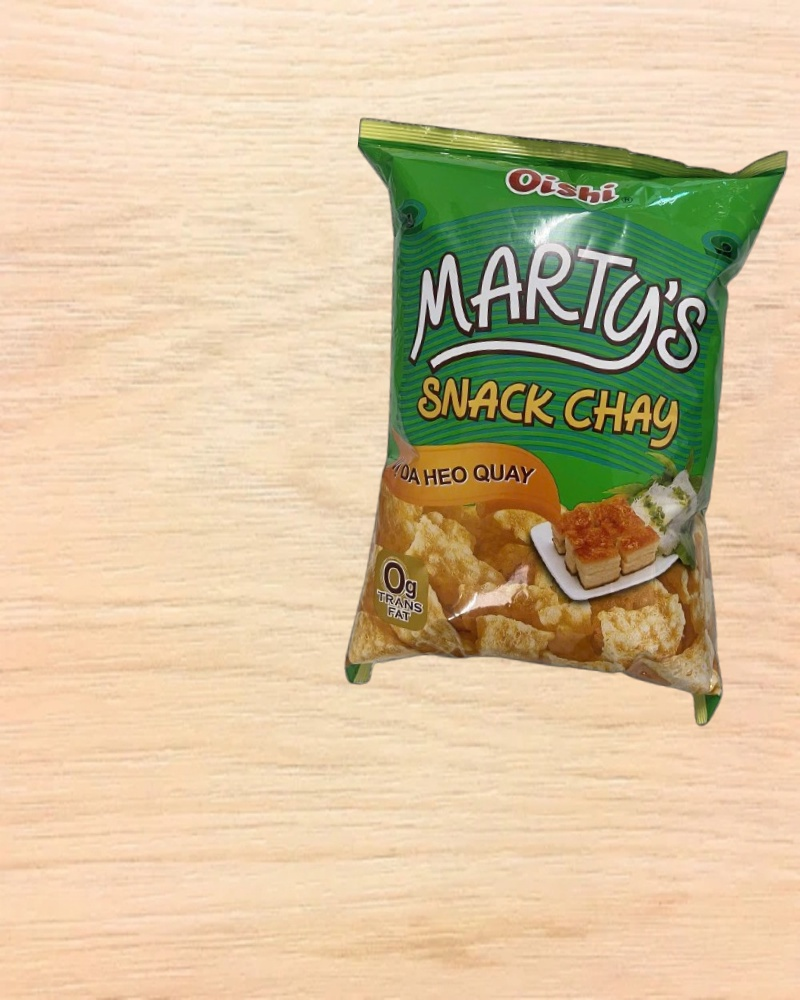Snack chay: (311, 114, 789, 730)
